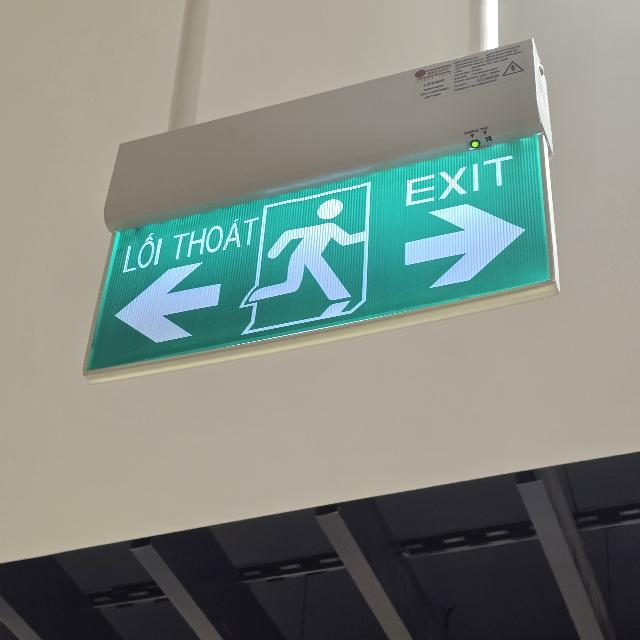exit: (88, 135, 554, 373)
